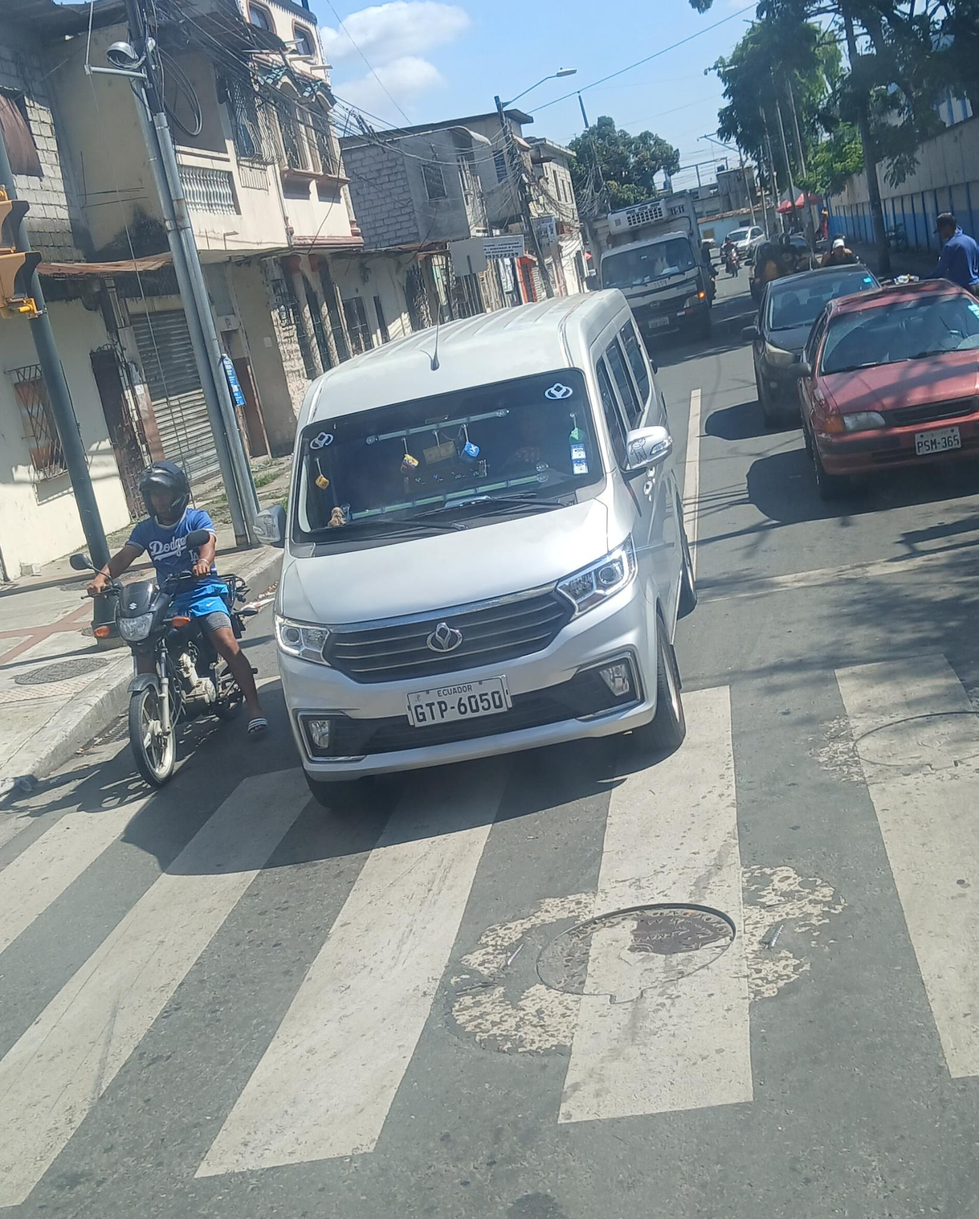license_plate: (407, 676, 515, 727), (914, 427, 964, 456), (644, 314, 670, 332)
